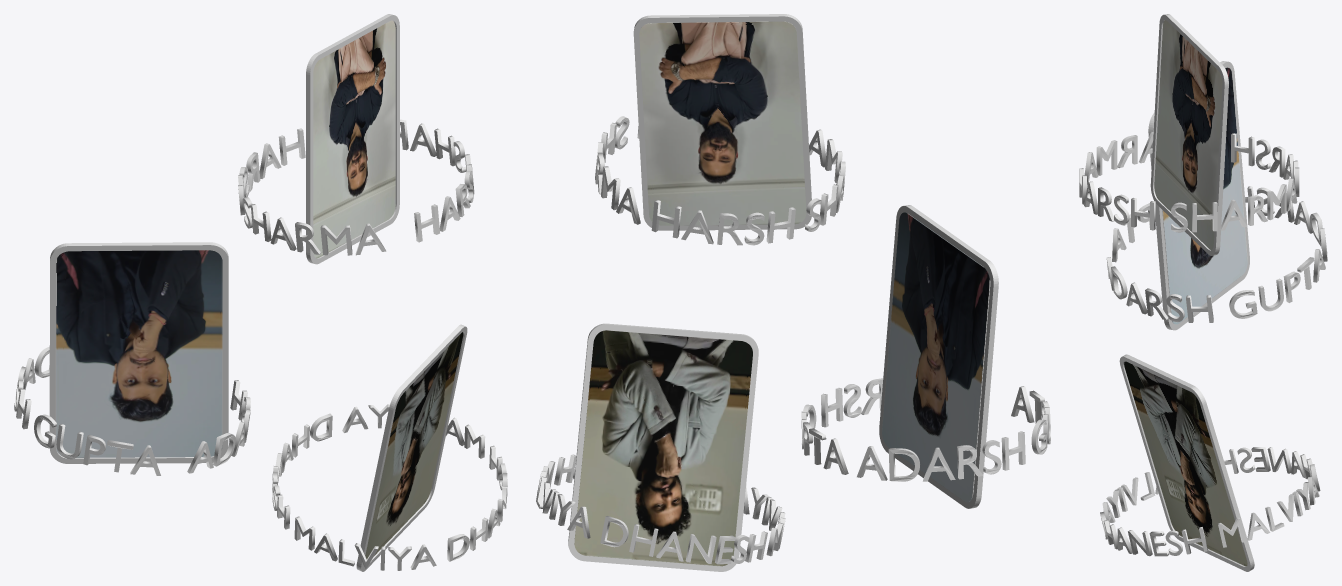
The picture shows the model from 3 angles, left to right: view 1: azimuth 30°, elevation 25°; view 2: azimuth 150°, elevation 25°; view 3: azimuth 270°, elevation 25°; orthographic projection. The views are drawn at different scales.
Parts seen in each view (by area): view 1: BG_image.003, BG_image.002, BG_image.004, Ht, dh, ag, Outline stroke.003, Outline stroke.002, Outline stroke.004; view 2: BG_image.004, BG_image.002, BG_image.003, ag, Ht, dh, Outline stroke.004, Outline stroke.003, Outline stroke.002; view 3: BG_image.004, BG_image.002, Ht, BG_image.003, dh, ag, Outline stroke.002, Outline stroke.004, Outline stroke.003.
Boxes of the visible parts, box(x1,y1,x2,y2) form: BG_image.003: box(55, 250, 222, 457); BG_image.002: box(313, 20, 395, 258); BG_image.004: box(365, 332, 463, 559); Ht: box(238, 119, 474, 255); dh: box(272, 404, 507, 570); ag: box(14, 347, 250, 475); Outline stroke.003: box(49, 242, 228, 463); Outline stroke.002: box(306, 14, 399, 264); Outline stroke.004: box(356, 324, 467, 571); BG_image.004: box(574, 330, 752, 566); BG_image.002: box(639, 21, 806, 225); BG_image.003: box(882, 212, 990, 502); ag: box(801, 378, 1050, 481); Ht: box(595, 116, 845, 245); dh: box(536, 454, 785, 564); Outline stroke.004: box(568, 323, 758, 571); Outline stroke.003: box(879, 205, 998, 508); Outline stroke.002: box(633, 14, 811, 230); BG_image.004: box(1124, 361, 1247, 566); BG_image.002: box(1154, 20, 1222, 250); Ht: box(1079, 132, 1299, 232); BG_image.003: box(1162, 67, 1247, 324); dh: box(1100, 447, 1320, 556); ag: box(1106, 186, 1327, 322); Outline stroke.002: box(1150, 14, 1228, 255); Outline stroke.004: box(1119, 354, 1254, 571); Outline stroke.003: box(1148, 61, 1249, 330).
Size of the model in its own units: 1.52 by 1.69 by 0.7608.
Materials: 4 (3 with a texture image).
